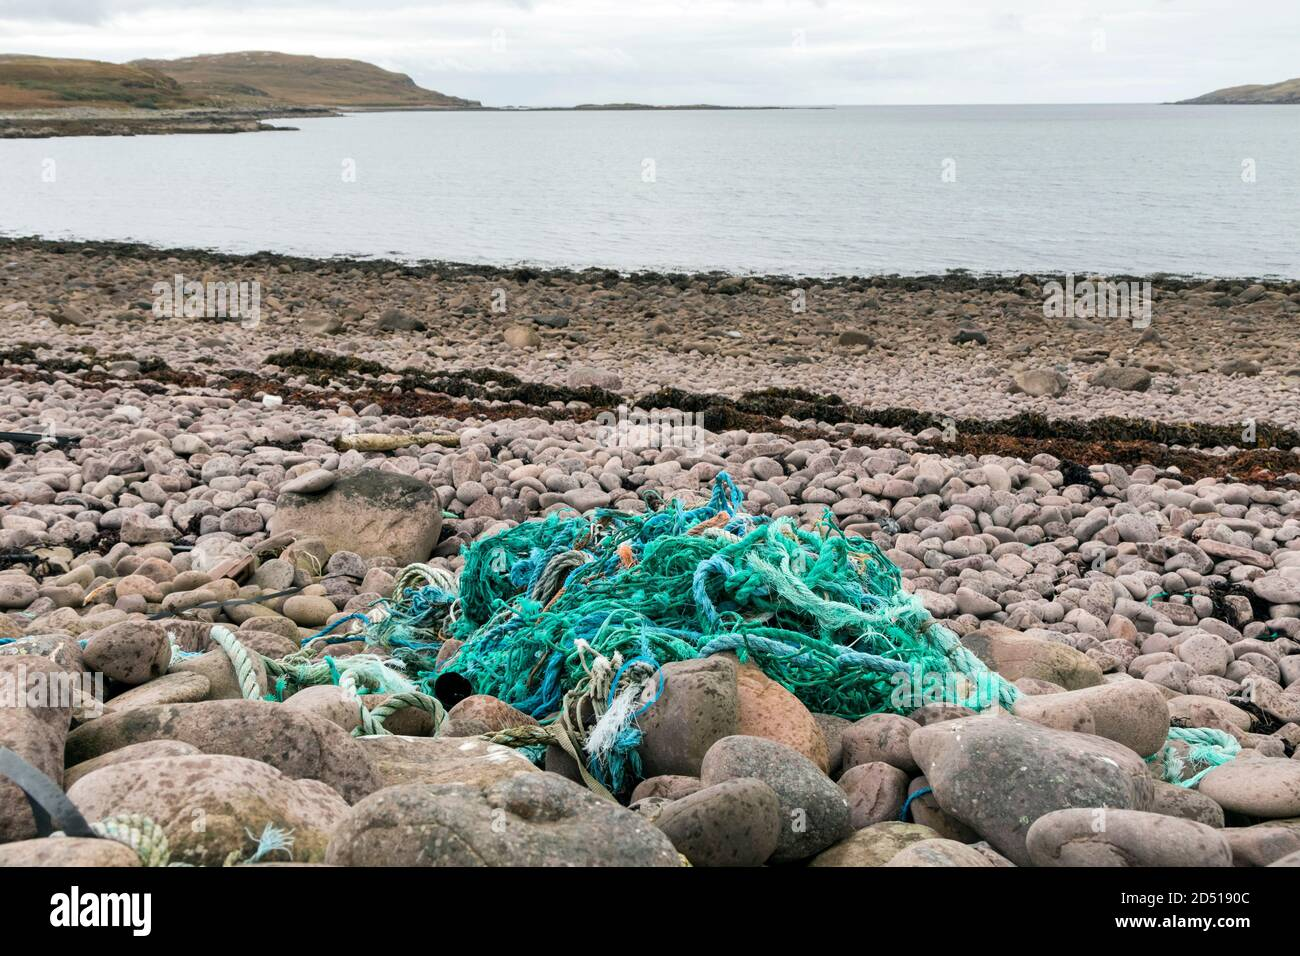fishingnet: (263, 465, 1014, 798)
